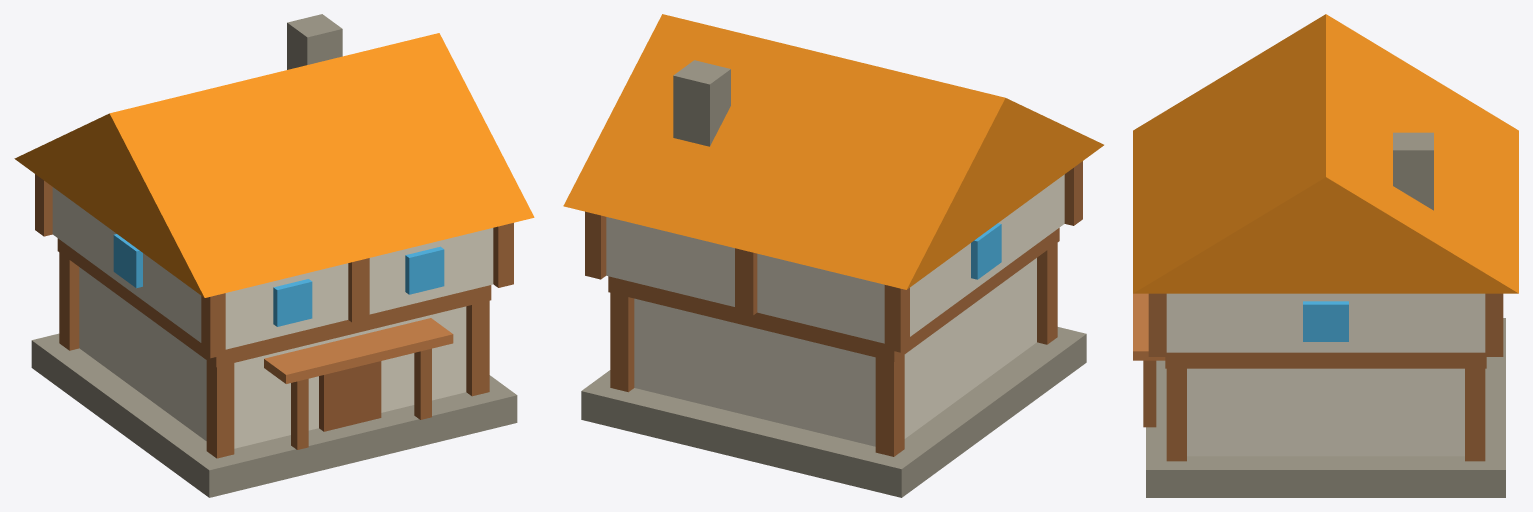
The model's file is house_t2_v4.glb.
3 renders of one model, left to right at view 1: azimuth 30°, elevation 25°; view 2: azimuth 150°, elevation 25°; view 3: azimuth 270°, elevation 25°, orthographic. The views are drawn at different scales.
Visible parts, largest first — view 1: house_t2_v4; view 2: house_t2_v4; view 3: house_t2_v4.
Boxes of the visible parts, <box> form: house_t2_v4: <box>14,14,534,497</box>; house_t2_v4: <box>563,14,1103,497</box>; house_t2_v4: <box>1133,14,1518,497</box>.
Size of the model in its own units: 0.75 by 0.7 by 0.75.
Materials: 1 (1 with a texture image).
